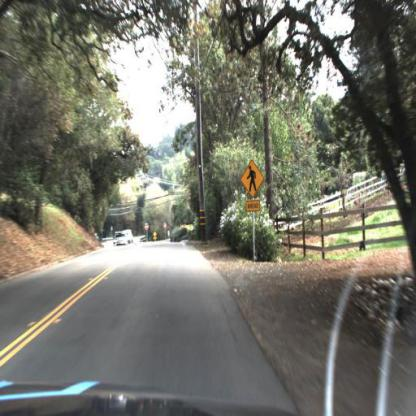car: (112, 230, 130, 248), (114, 229, 129, 249)
